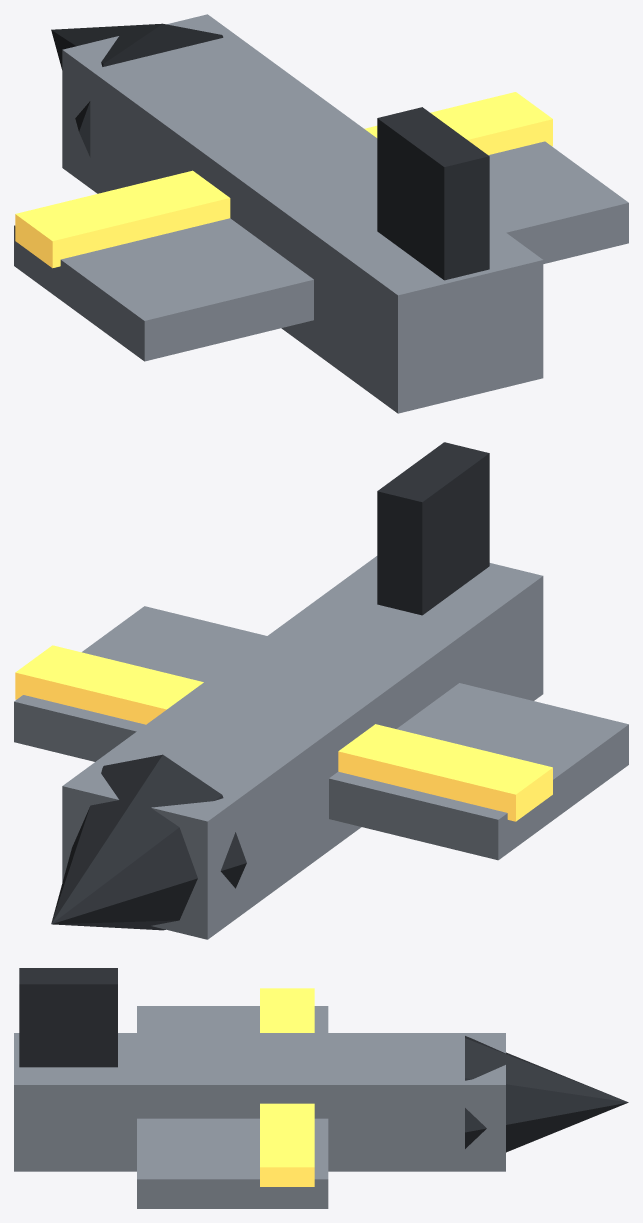
Rendered from plektor_strike_fighter.glb.
3 views of the same model, one above another, from view 1: azimuth 30°, elevation 25°; view 2: azimuth 150°, elevation 25°; view 3: azimuth 270°, elevation 25° (orthographic). The views are drawn at different scales.
Parts seen in each view (by area): view 1: hull; view 2: hull; view 3: hull.
Boxes of the visible parts, <box> form: hull: <box>14,14,628,413</box>; hull: <box>14,442,628,939</box>; hull: <box>14,968,628,1208</box>.
Size of the model in its own units: 8.06 by 4 by 11.7.
